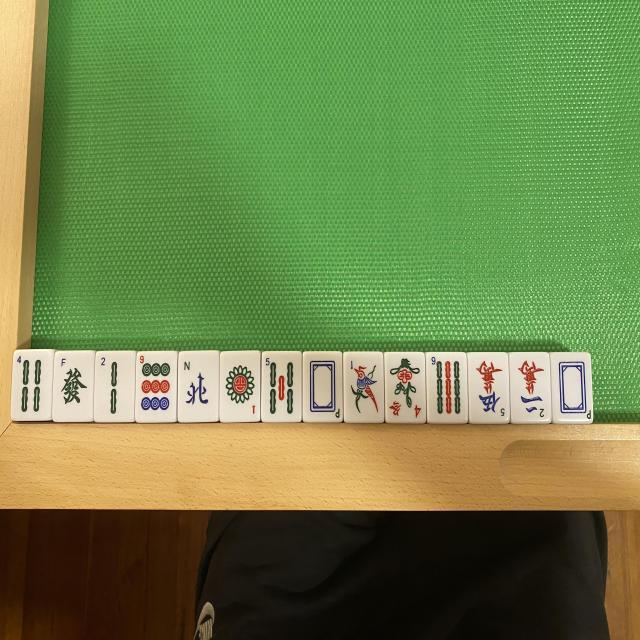bs4: (388, 352, 427, 421)
hdg: (55, 354, 94, 422)
hdw: (553, 355, 593, 423), (304, 353, 342, 422)
hwn: (182, 352, 220, 422)
sb1: (344, 354, 382, 423)
sb2: (98, 352, 136, 421)
sb4: (13, 349, 51, 418)
sb5: (262, 352, 302, 419)
sb9: (428, 352, 466, 421)
sc2: (512, 354, 550, 424)
sc5: (470, 352, 510, 420)
sd1: (222, 353, 262, 422)
sd9: (137, 351, 175, 420)
